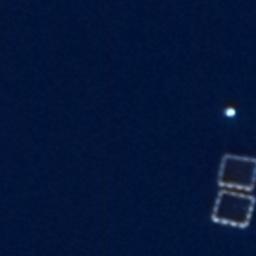square_solid: (209, 186, 256, 233), (214, 148, 256, 196)
